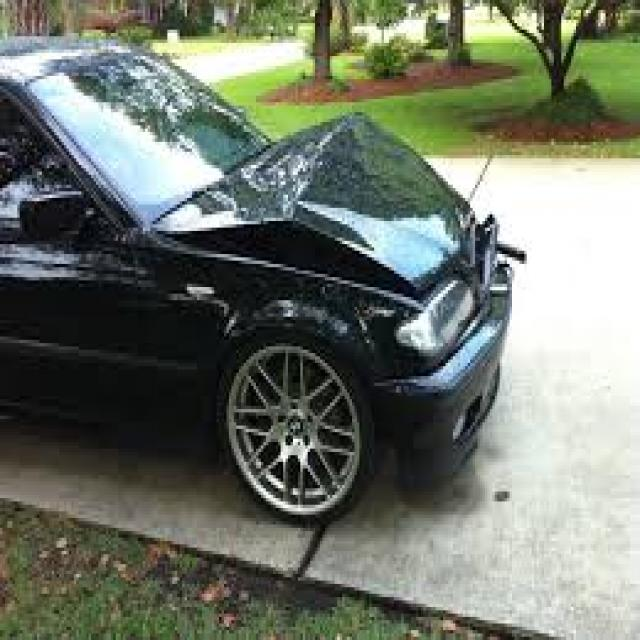moderate: (180, 112, 518, 401)
